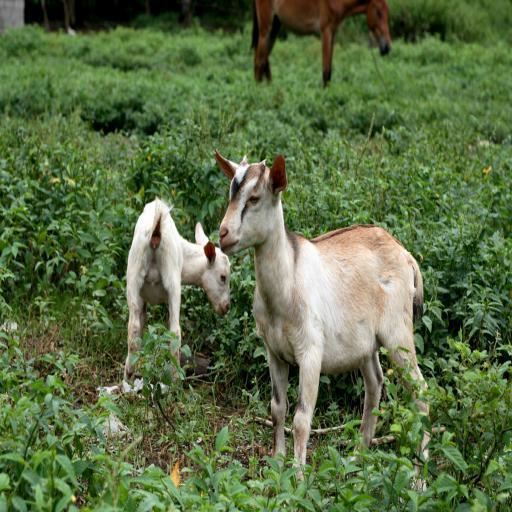horse: (240, 0, 392, 85)
